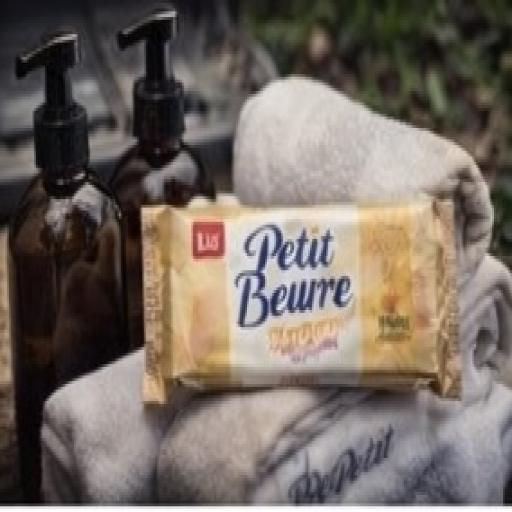petit_beurre: (106, 138, 479, 426)
